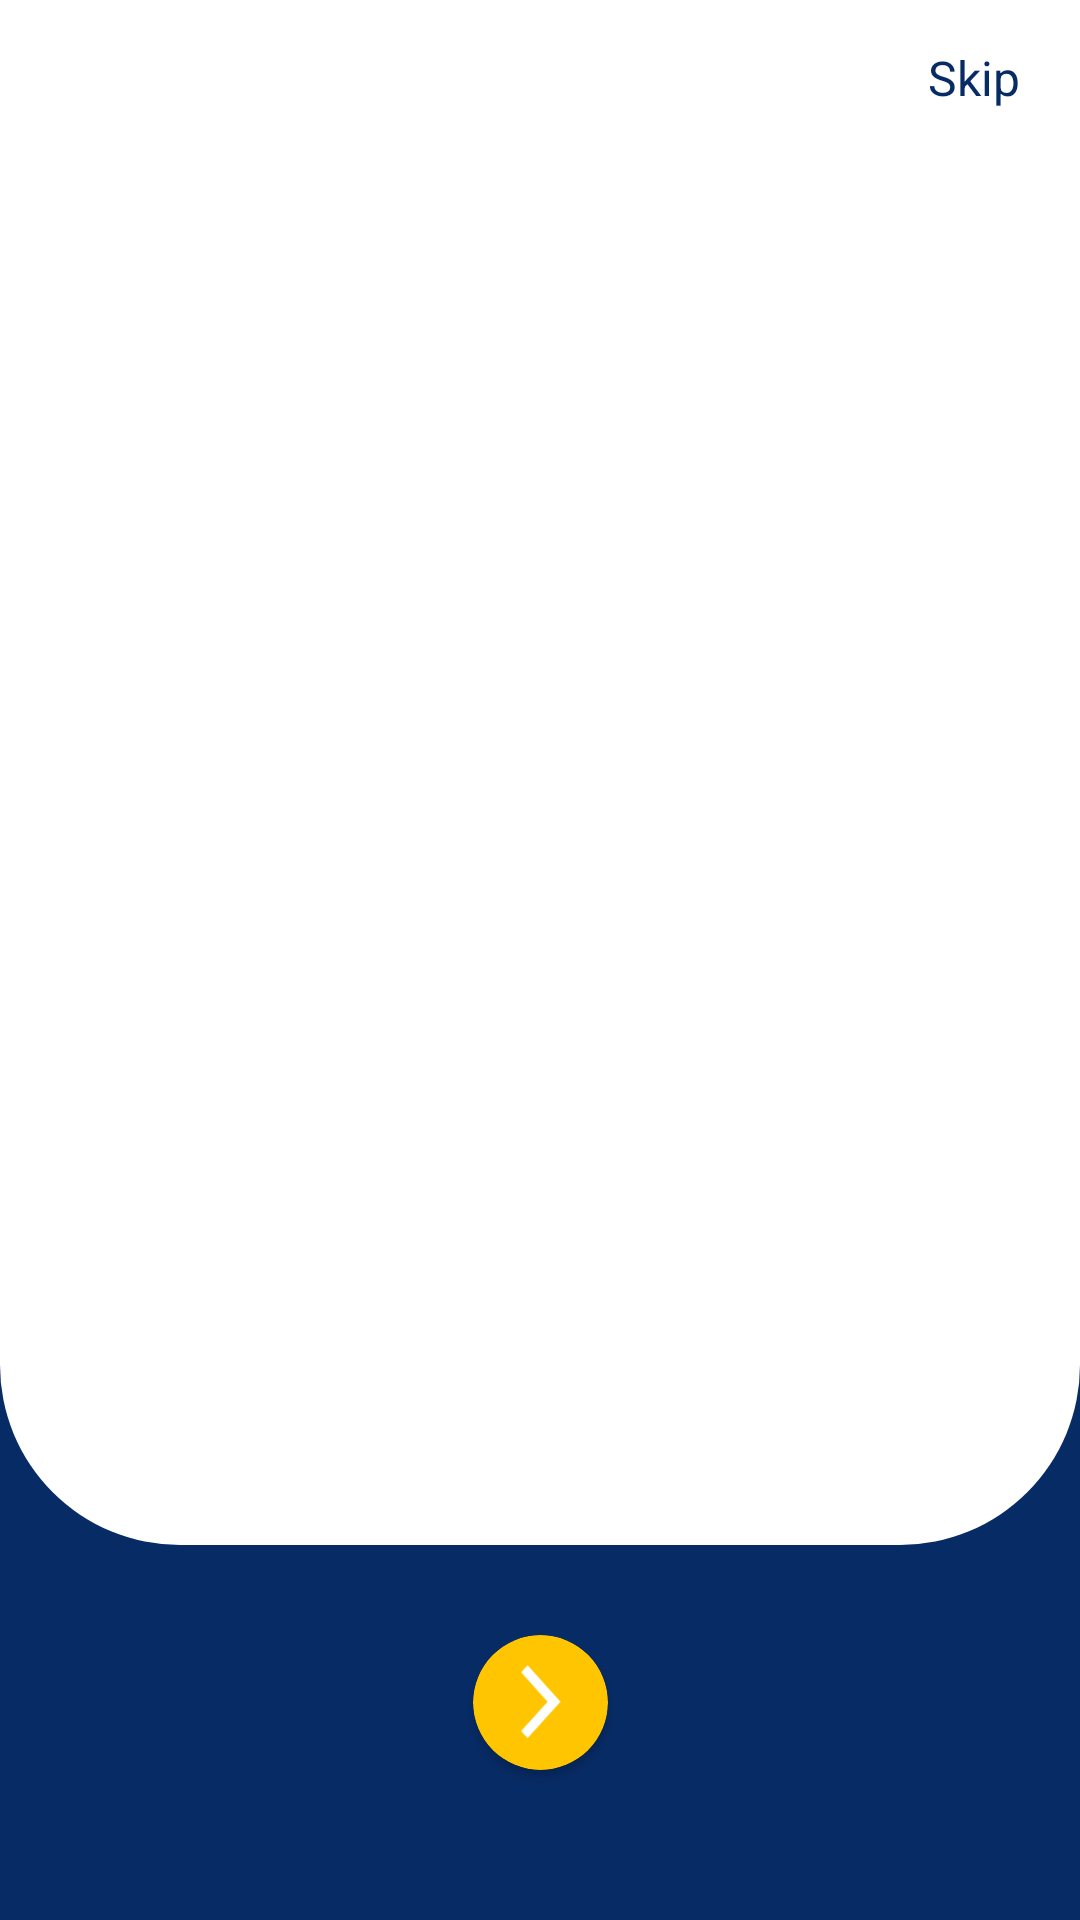

Where icons sit on this 1080*1920 app screen, as Rect(x1, y1, x2, y2):
half arrow right: Rect(473, 1635, 608, 1770)
